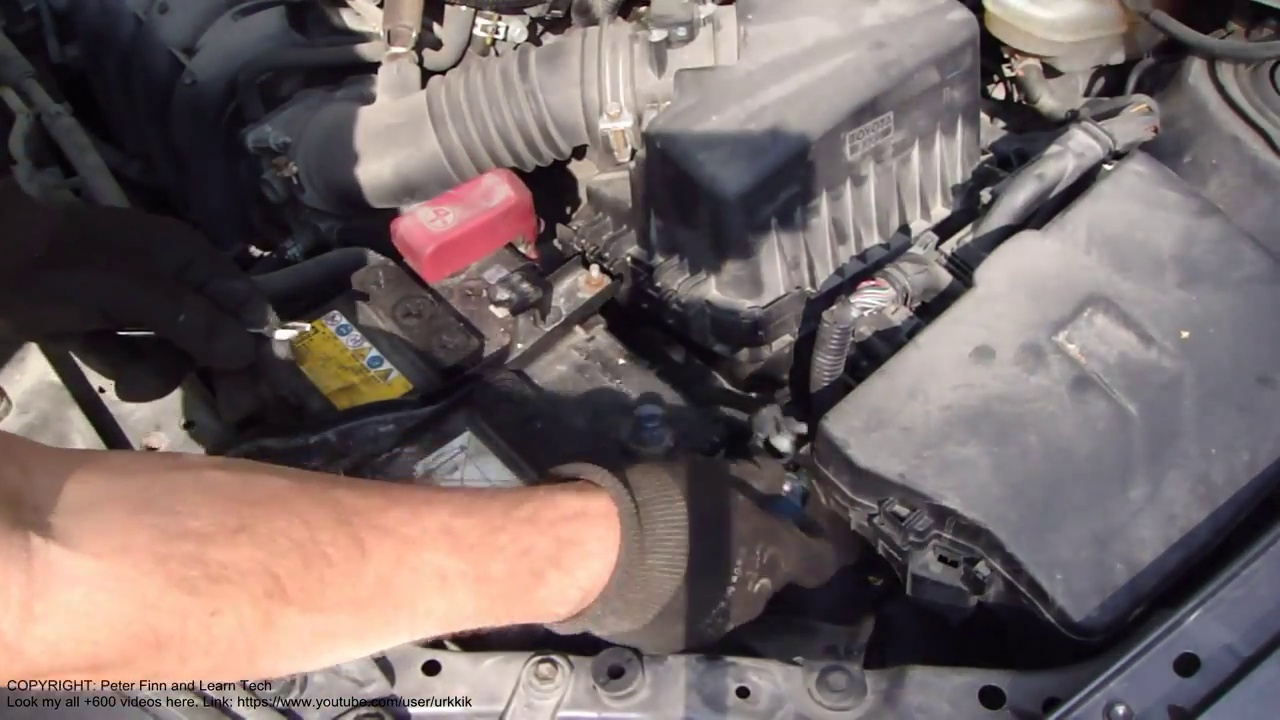battery: (244, 169, 714, 589)
neg_disconnected: (606, 381, 703, 471)
neg_touched: (595, 382, 785, 554)
pos_connected: (351, 163, 580, 295)
